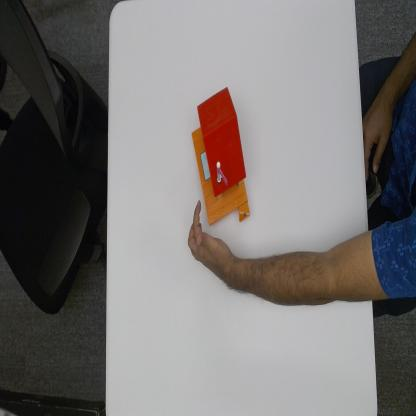Arm: (242, 235, 372, 310)
Hand: (187, 199, 239, 327)
House: (190, 87, 249, 219)
